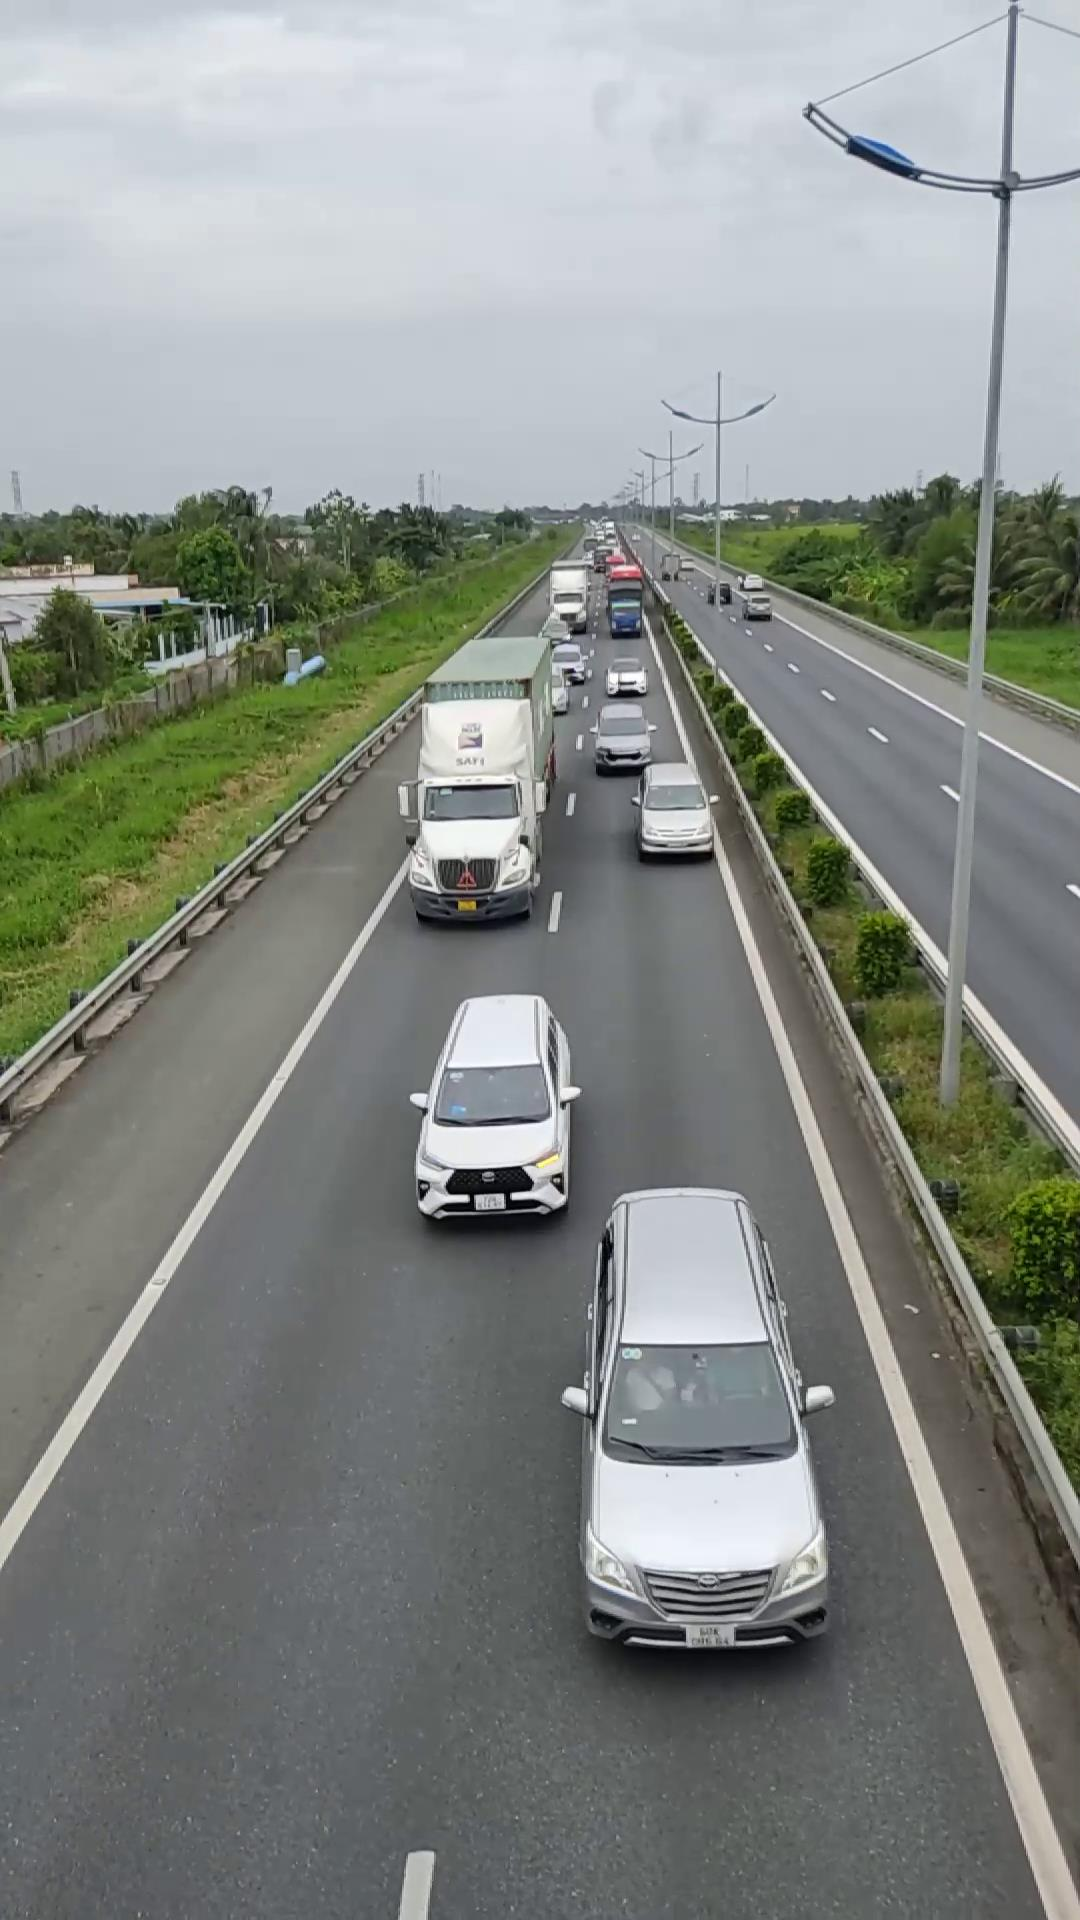car: (569, 1183, 835, 1652), (407, 991, 581, 1225), (632, 761, 717, 859), (586, 715, 655, 774)
container: (402, 632, 556, 924)
